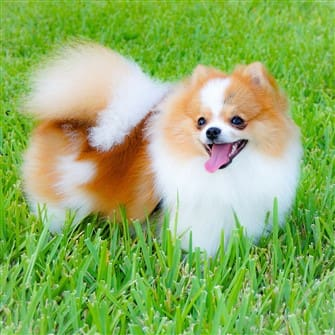dog: (16, 42, 308, 263)
pomeranian: (18, 44, 310, 265)
